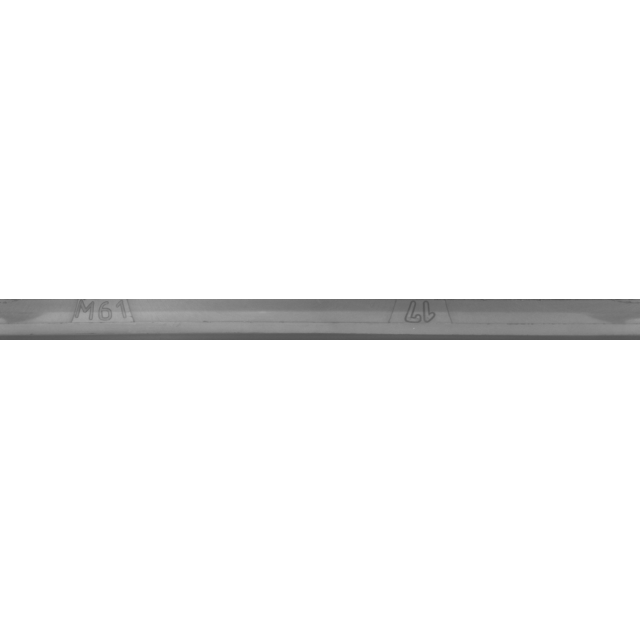mohao: (5, 270, 205, 370)
xuehao: (330, 270, 530, 370)
